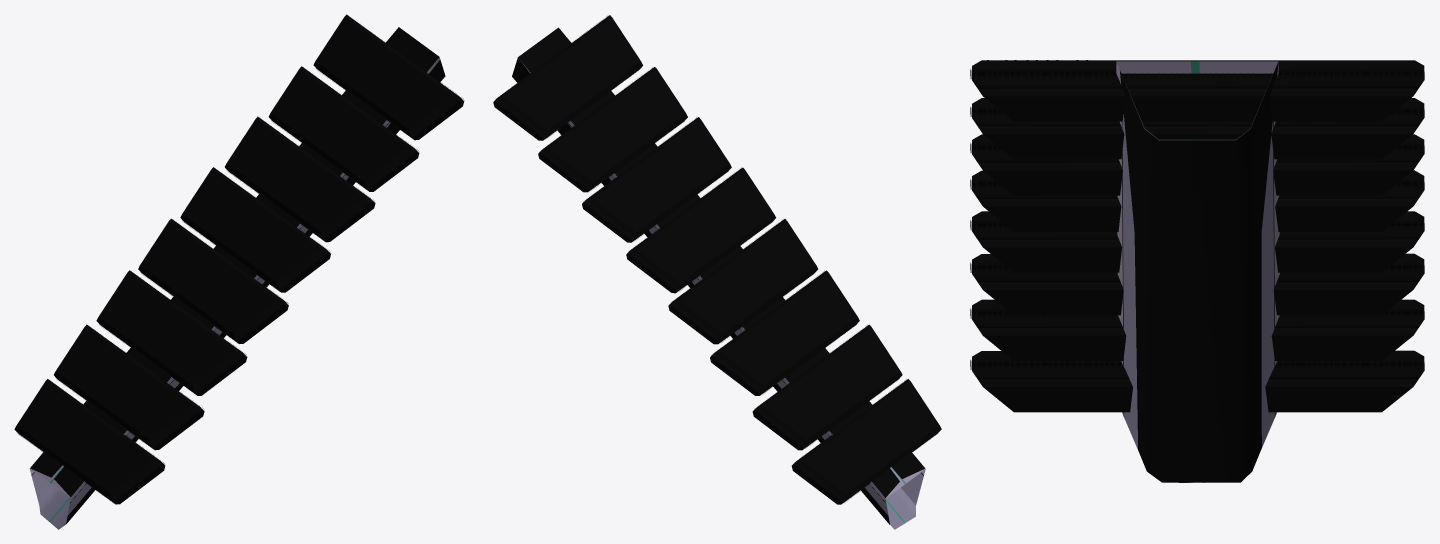
File: platform-stairs-02.glb
The picture shows the model from 3 angles, left to right: view 1: azimuth 30°, elevation 25°; view 2: azimuth 150°, elevation 25°; view 3: azimuth 270°, elevation 25°; orthographic projection. The views are drawn at different scales.
Parts seen in each view (by area): view 1: Platform_Stairs_02; view 2: Platform_Stairs_02; view 3: Platform_Stairs_02.
Boxes of the visible parts, x1,y1,x2,y2 form: Platform_Stairs_02: [14, 14, 464, 529]; Platform_Stairs_02: [493, 15, 941, 529]; Platform_Stairs_02: [970, 60, 1424, 482].
Size of the model in its own units: 4.57 by 4.43 by 2.34.
3 materials, 2 textured.
